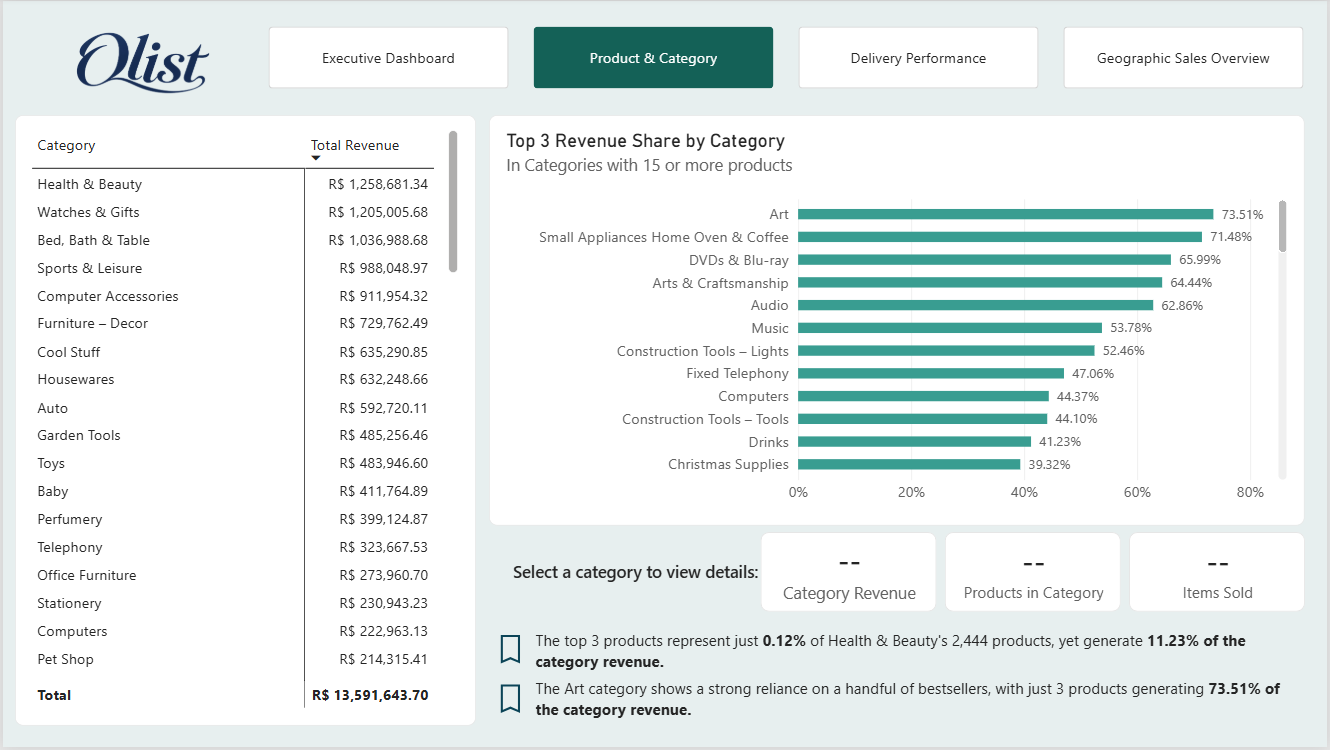

Layout of this report page (visuals, bound fields, positions):
{"tool":"powerbi","page":{"name":"Product & Category","canvas":[1280,720],"ordinal":1},"visuals":[{"type":"image","box":[22.8,3.7,216.3,105.7],"z":0},{"type":"pivotTable","title":"Revenue by Category","fields":{"Rows":["product_category_name_translation.product_category_name_english_clean"],"Values":["_measures.Total Revenue"]},"box":[11.7,110,445,590],"z":1000},{"type":"clusteredBarChart","title":"Top 3 Revenue Share by Category","fields":{"Category":["product_category_name_translation.product_category_name_english_clean"],"Y":["_measures.Top 3 Revenue Share"]},"box":[469.5,110.2,788.1,396.6],"z":2000},{"type":"cardVisual","fields":{"Data":["_measures.Selected Category Revenue","_measures.Selected Category Product Count","_measures.Selected Category Products Sold"]},"box":[731.2,512.5,527.1,77.1],"z":3000},{"type":"textbox","box":[491,540,240,51],"z":4000},{"type":"actionButton","box":[466.8,605.7,46.8,40],"z":5000},{"type":"textbox","box":[514.8,606.9,742.4,46],"z":6000},{"type":"actionButton","box":[467,653,47,41],"z":7000},{"type":"textbox","box":[514.2,653.8,742.4,46],"z":8000},{"type":"pageNavigator","box":[257,24.4,1000.3,60.2],"z":9000}]}

Visuals, with their boxes in screenshot pixels (x1, y1, x2, y2), scaled from the page's 1280x720 canvas onto the 1330x750 screenshot:
image: bbox(24, 4, 248, 114)
"Revenue by Category" pivotTable: bbox(12, 115, 475, 729)
"Top 3 Revenue Share by Category" clusteredBarChart: bbox(488, 115, 1307, 528)
cardVisual - _measures.Selected Category Revenue x _measures.Selected Category Product Count: bbox(760, 534, 1307, 614)
textbox: bbox(510, 562, 760, 616)
actionButton: bbox(485, 631, 534, 673)
textbox: bbox(535, 632, 1306, 680)
actionButton: bbox(485, 680, 534, 723)
textbox: bbox(534, 681, 1306, 729)
pageNavigator: bbox(267, 25, 1306, 88)
